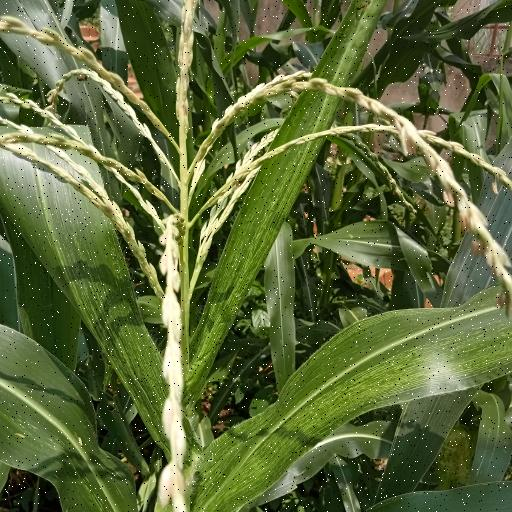Corn_Streak: (194, 288, 510, 502)
